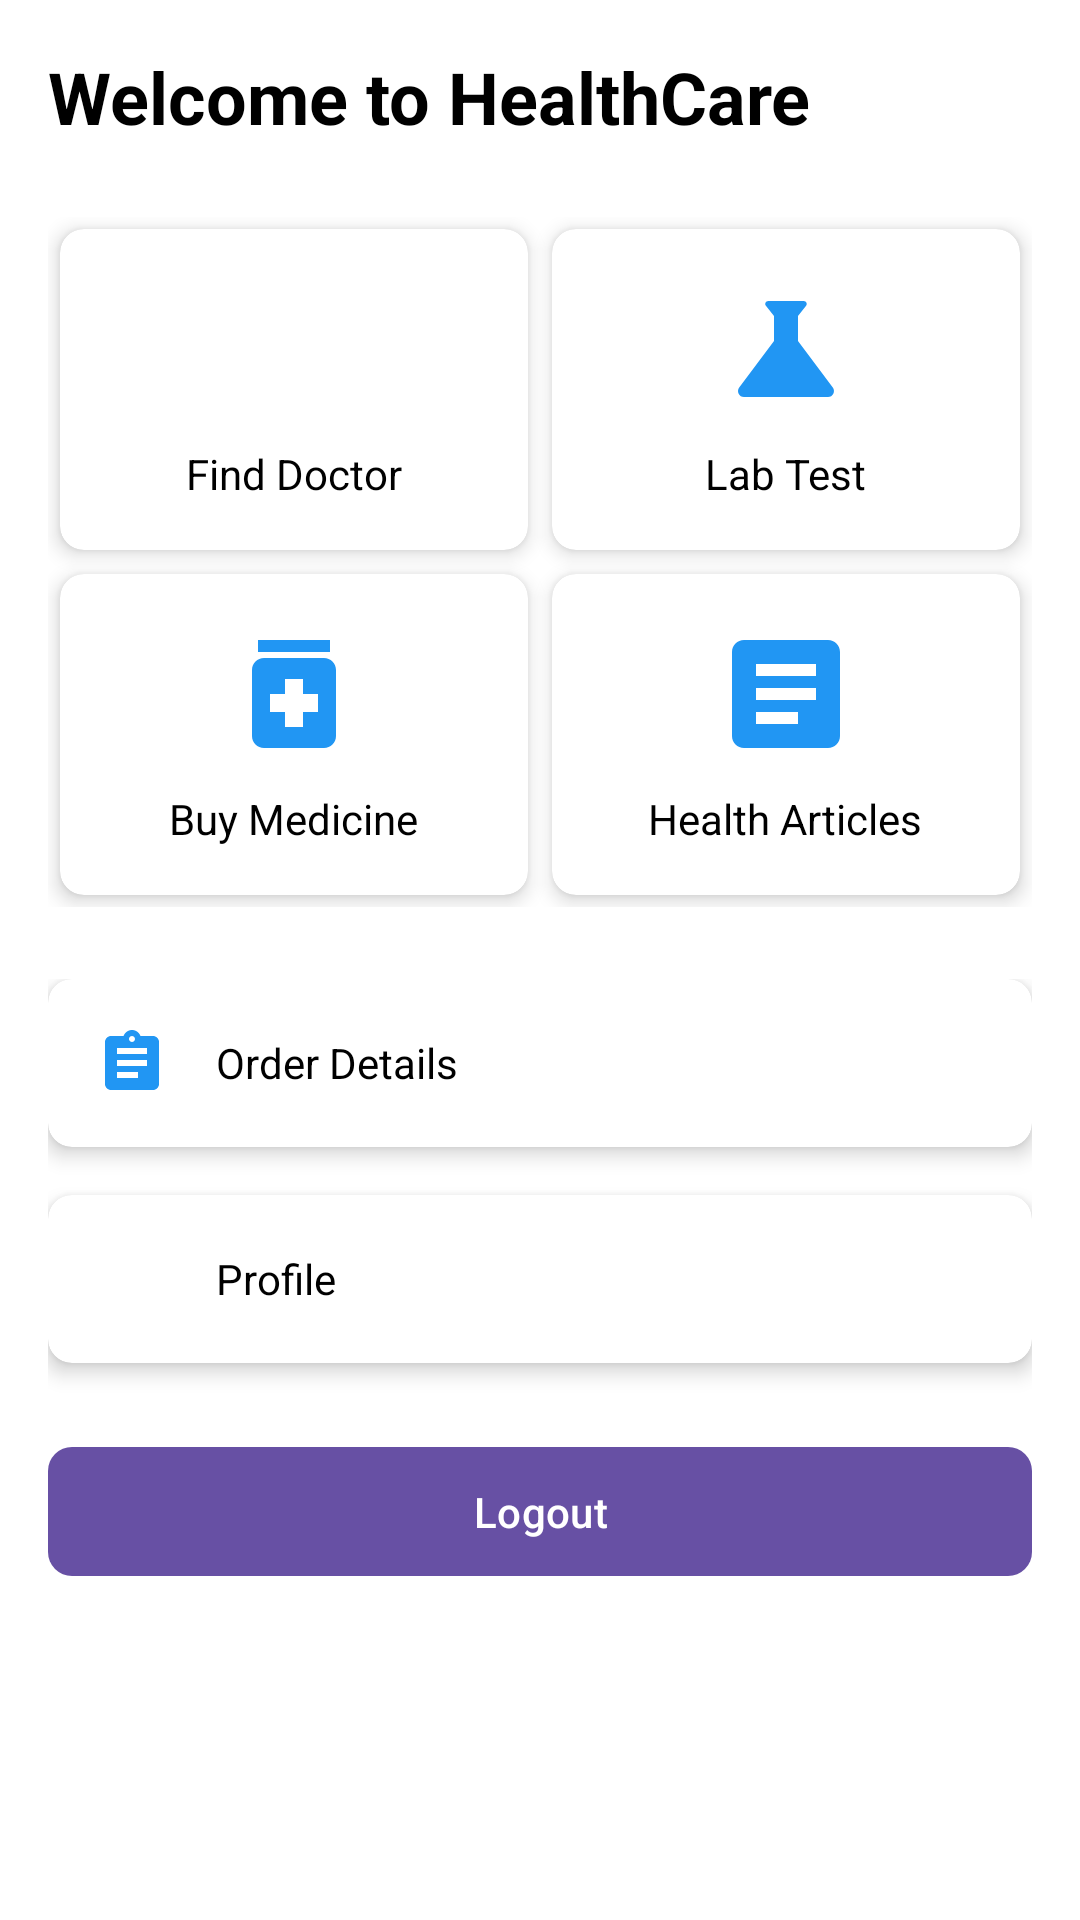

Named icons in this screenshot (1080x1920) and their bounding boxes, rect(x1, y1, x2, y2):
orders: rect(105, 1030, 159, 1090)
